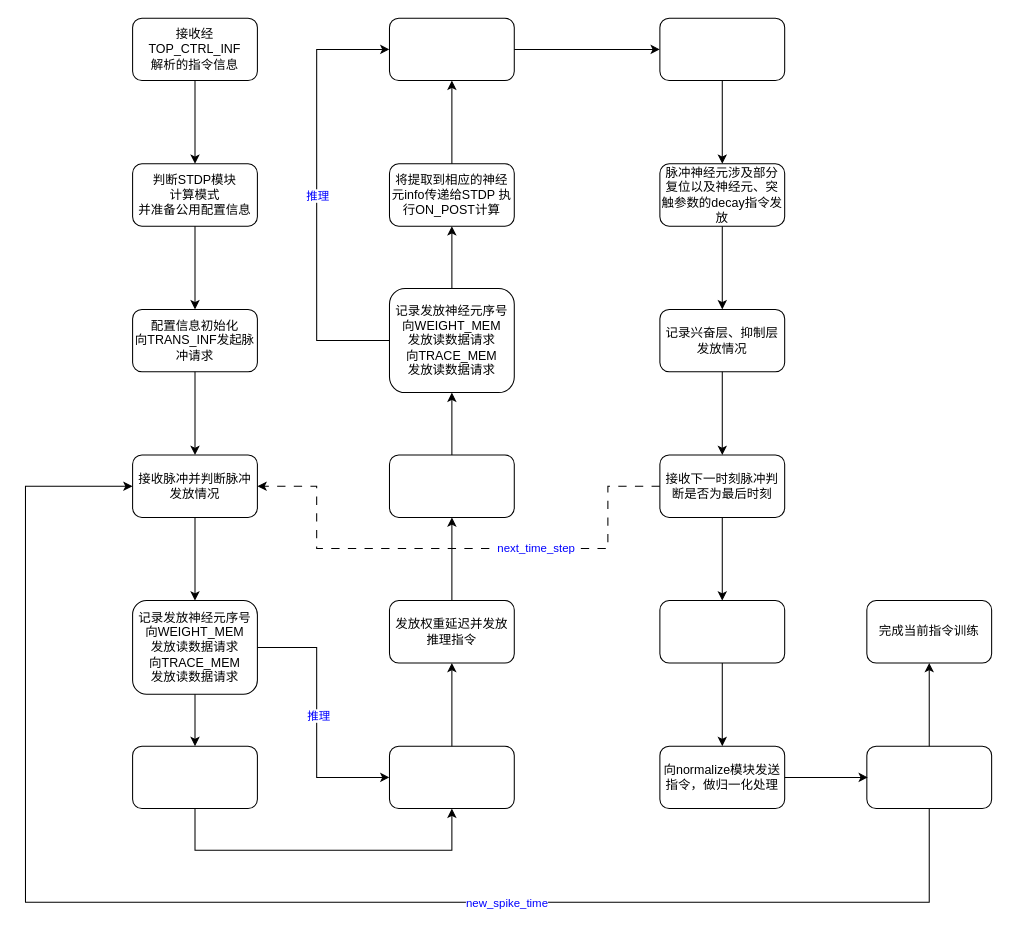
The diagram is 1010 pixels wide and 929 high, and some of its shapes have lost their labels. The box of each missing label's shape, as (x1, y1, x2, y2) in pixels:
向外发放兴奋层、抑制层发放情况: (659, 600, 785, 663)
将提取到相应的神经元info传递给STDP 执行ON_PRE计算: (132, 745, 257, 809)
接收STDP返回后权重值，向DELAY发放权重延迟: (388, 745, 514, 809)
等待下一个脉冲序列发放: (866, 745, 992, 809)
等待抑制层推理完成，接收返回的抑制层脉冲发放情况: (659, 17, 785, 81)
等待推理完成，接收返回的兴奋层脉冲发放情况: (388, 454, 514, 517)
脉冲神经元涉及部分复位和累加后发放推理指令: (388, 17, 514, 81)
